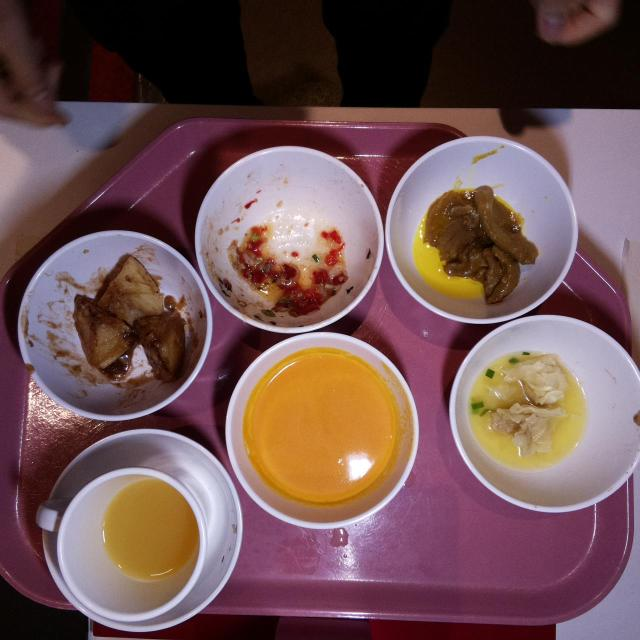Apple: (519, 0, 631, 50)
Meat: (72, 292, 138, 370), (134, 291, 187, 385), (101, 255, 163, 317)
Noodle: (489, 358, 567, 454)
